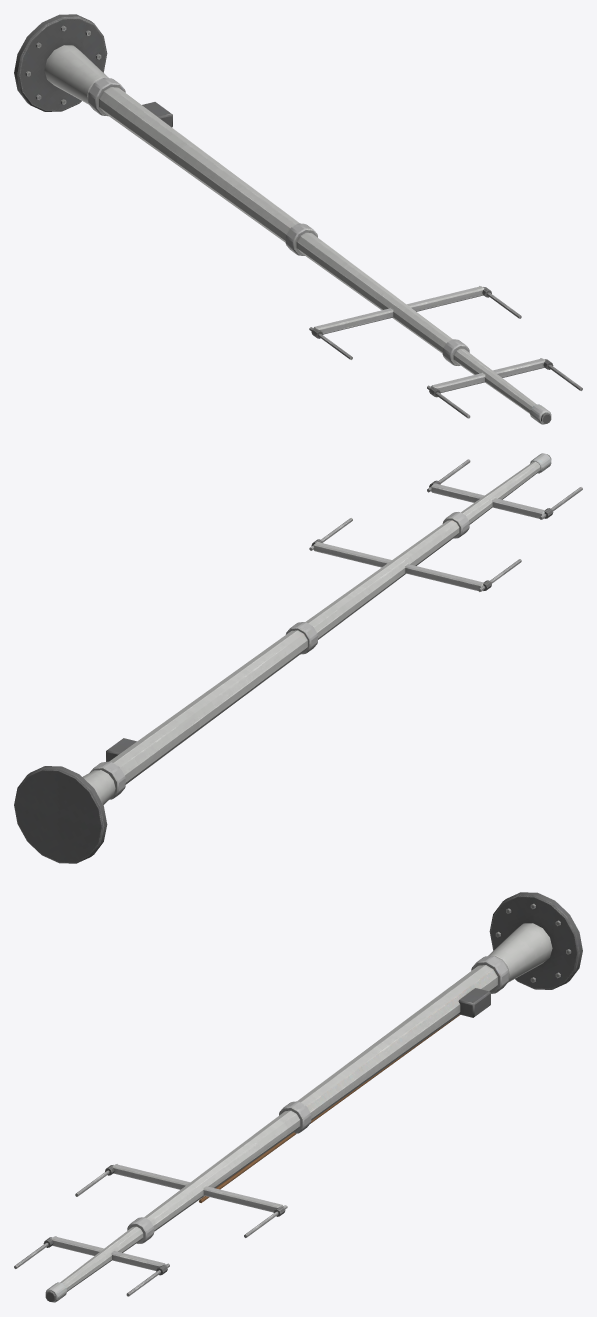
The model's file is antenna.glb.
3 views of the same model, one above another, from view 1: azimuth 30°, elevation 25°; view 2: azimuth 150°, elevation 25°; view 3: azimuth 330°, elevation 25° (orthographic).
Parts seen in each view (by area): view 1: antenna; view 2: antenna; view 3: antenna.
Boxes of the visible parts, x1=… form: antenna: x1=14, y1=14, x2=582, y2=424; antenna: x1=14, y1=453, x2=582, y2=863; antenna: x1=14, y1=892, x2=582, y2=1302.
Size of the model in its own units: 1.25 by 0.6403 by 6.01.
1 material, 1 textured.
